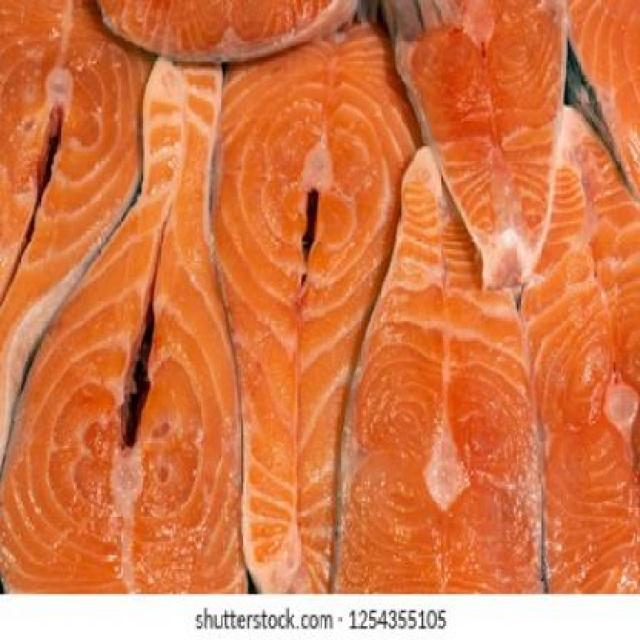salmon: (186, 9, 437, 588), (2, 28, 250, 606), (331, 135, 554, 592), (502, 108, 639, 585), (392, 3, 576, 286)
